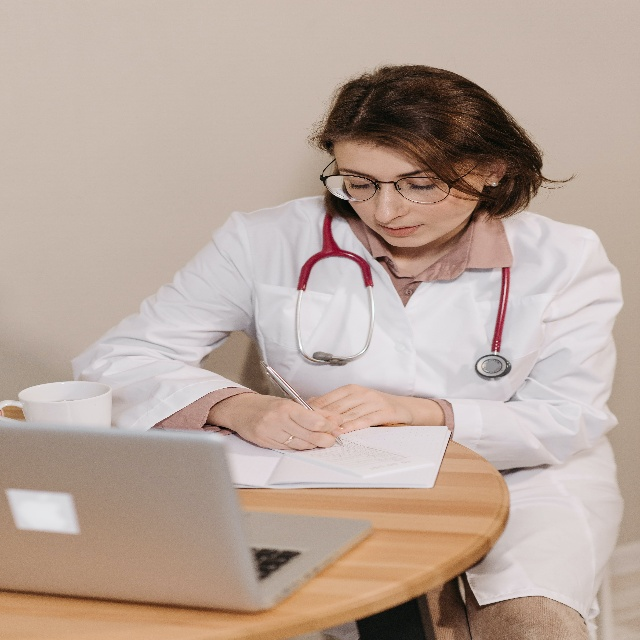Gafas: (318, 151, 482, 210)
Sin_guantes: (233, 393, 340, 450), (309, 384, 408, 433)
